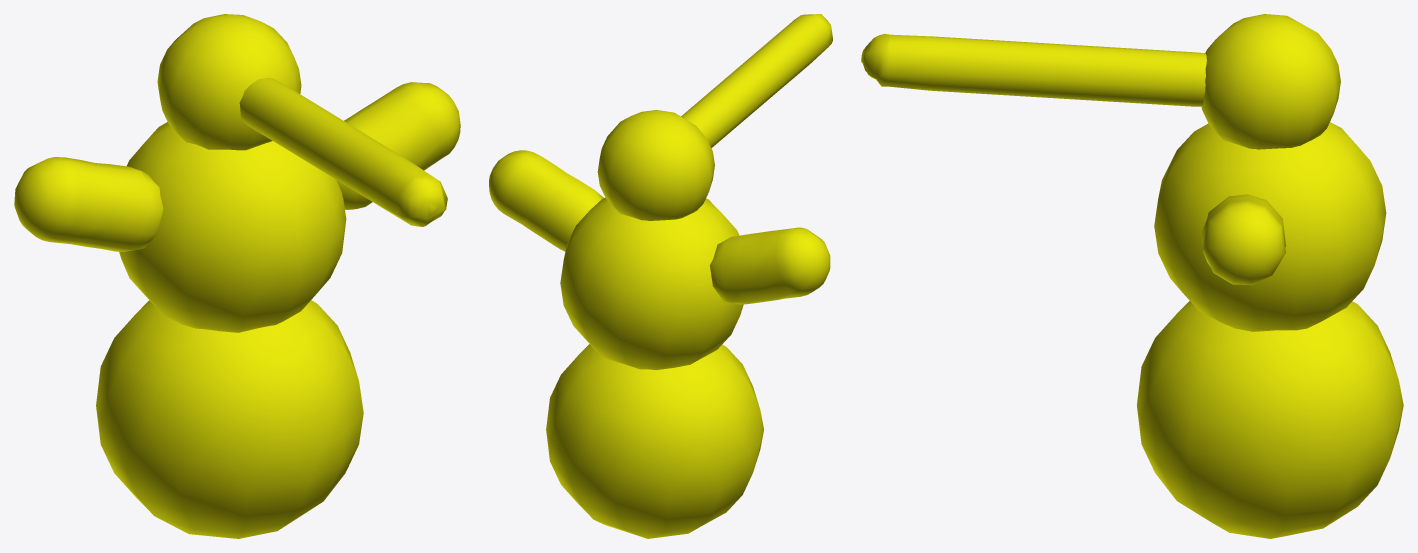
Rendered from player2_primitive.fbx.
The picture shows the model from 3 angles, left to right: view 1: azimuth 30°, elevation 25°; view 2: azimuth 150°, elevation 25°; view 3: azimuth 270°, elevation 25°; orthographic projection. The views are drawn at different scales.
Parts seen in each view (by area): view 1: Sphere_3, Sphere_2, Sphere, Capsule, Capsule_2_2, Capsule_2; view 2: Sphere_3, Sphere_2, Sphere, Capsule_2_2, Capsule, Capsule_2; view 3: Sphere_3, Sphere_2, Capsule, Sphere, Capsule_2.
Boxes of the visible parts, <box> form: Sphere_3: <box>96,300,363,538</box>; Sphere_2: <box>119,122,346,332</box>; Sphere: <box>157,14,301,150</box>; Capsule: <box>239,77,447,226</box>; Capsule_2_2: <box>14,157,163,251</box>; Capsule_2: <box>336,82,460,209</box>; Sphere_3: <box>546,344,763,538</box>; Sphere_2: <box>560,197,743,369</box>; Sphere: <box>597,110,714,220</box>; Capsule_2_2: <box>710,227,830,304</box>; Capsule: <box>681,14,832,147</box>; Capsule_2: <box>489,150,603,251</box>; Sphere_3: <box>1137,301,1403,538</box>; Sphere_2: <box>1154,122,1386,331</box>; Capsule: <box>861,33,1206,106</box>; Sphere: <box>1201,14,1340,149</box>; Capsule_2: <box>1202,194,1285,285</box>.
Size of the model in its own units: 184 by 212 by 206.
